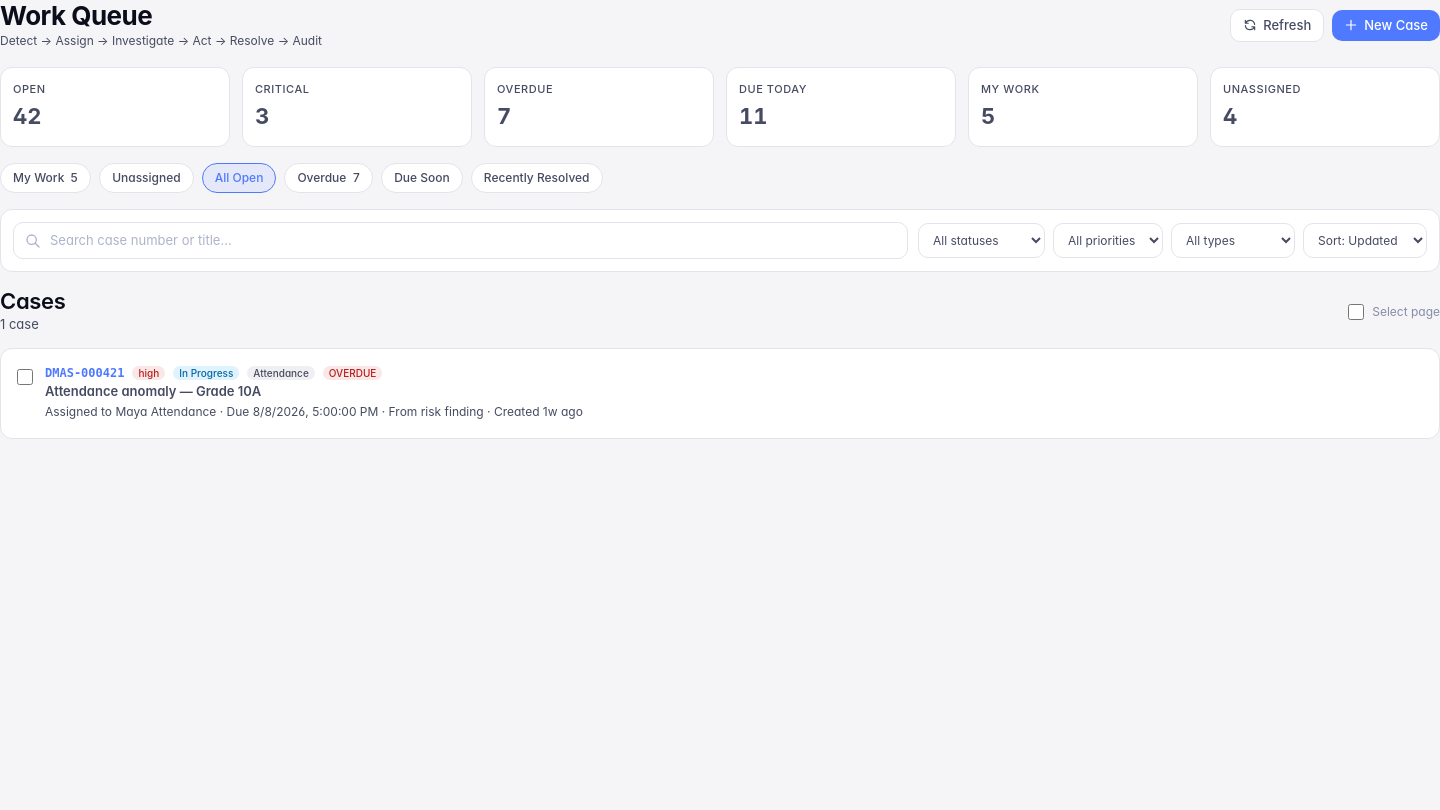
Scenario: Work Queue page › creates a case from the New Case modal
Expected: the text "Attendance anomaly — Grade 10A" is shown, [45,383,261,399]
Click the button "New Case": (1386, 26) [1332,10,1439,41]
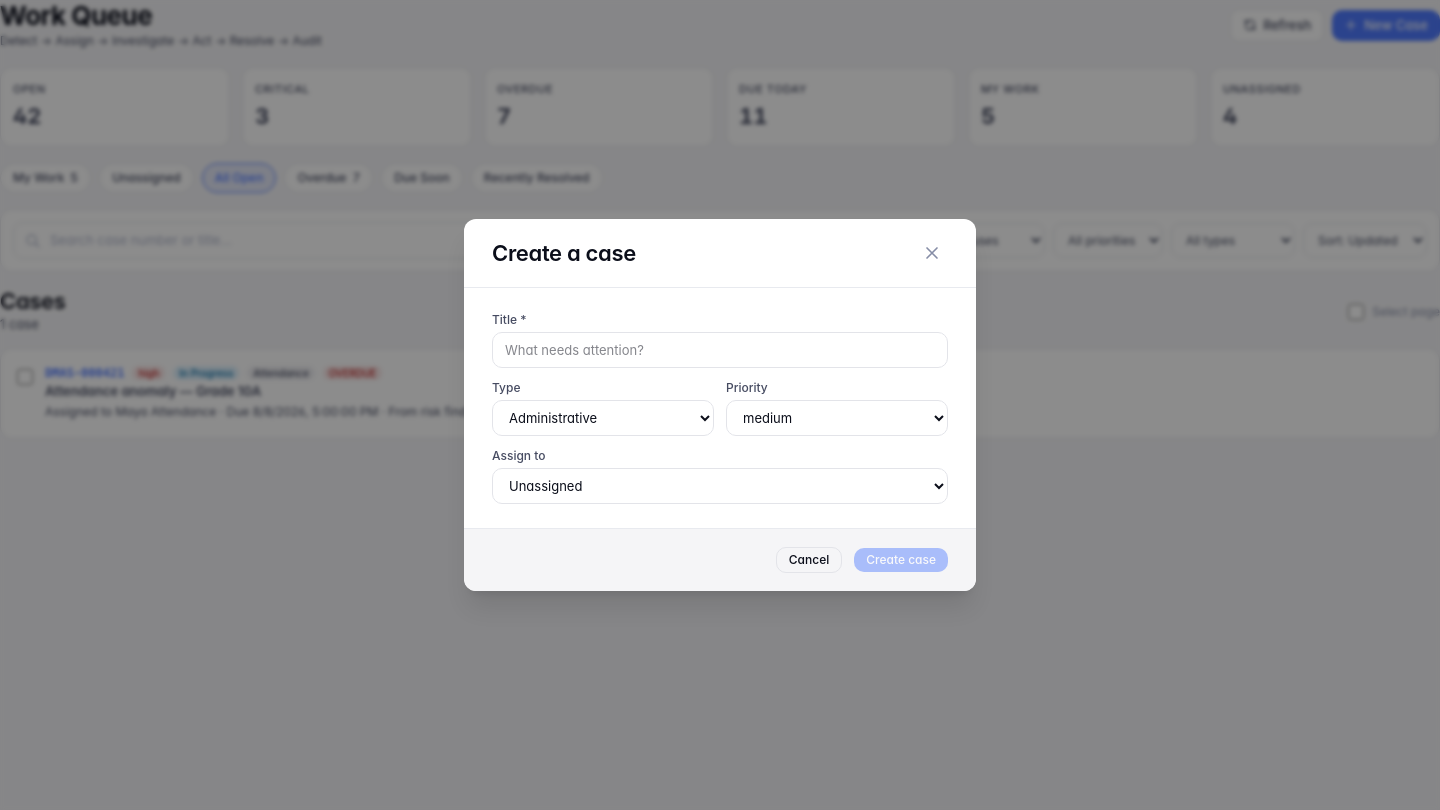
In the field with placeholder "What needs attention?": (720, 350) [492,332,948,368], type "New admissions backlog"
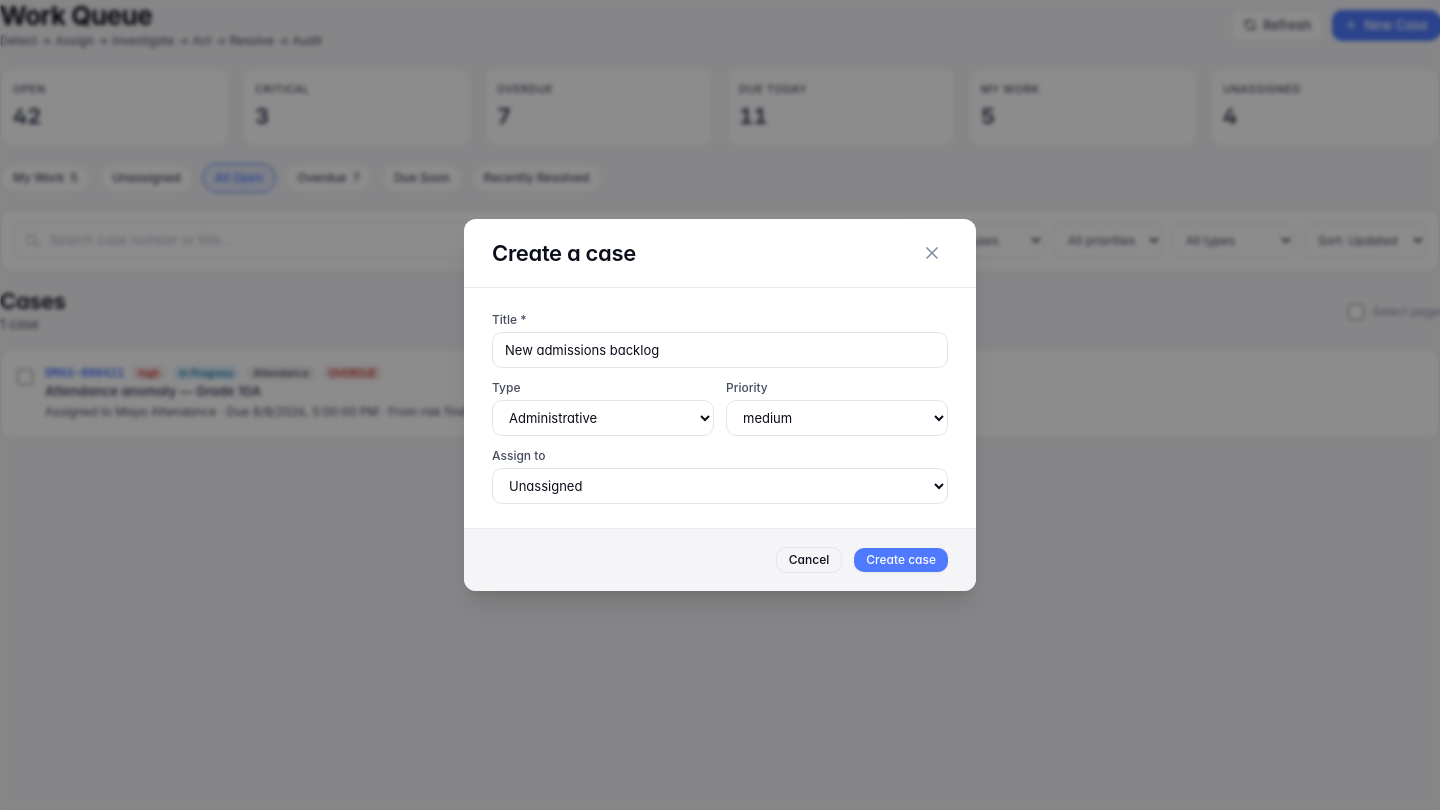
Click the button "Create case": (901, 560) [854,548,948,572]
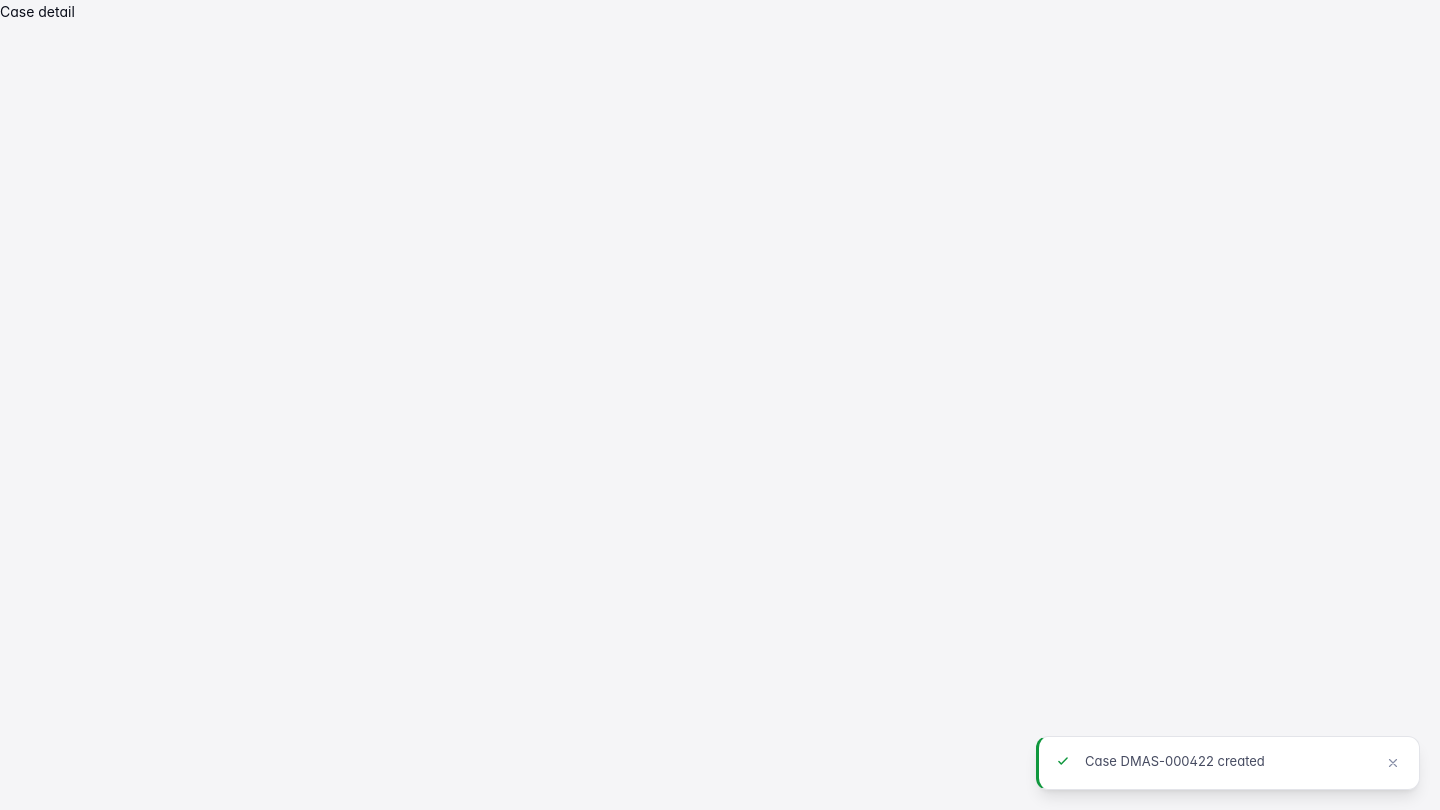
Now the text "Case detail" is shown, box [0,3,75,20]
